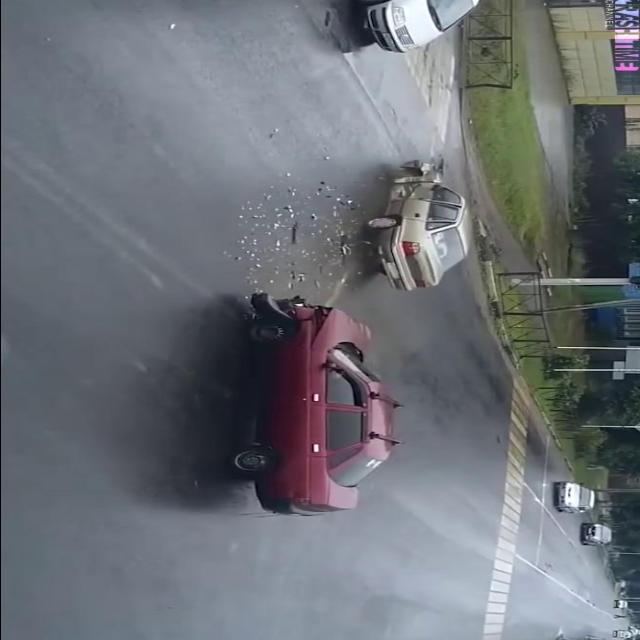accident: (206, 153, 486, 523)
